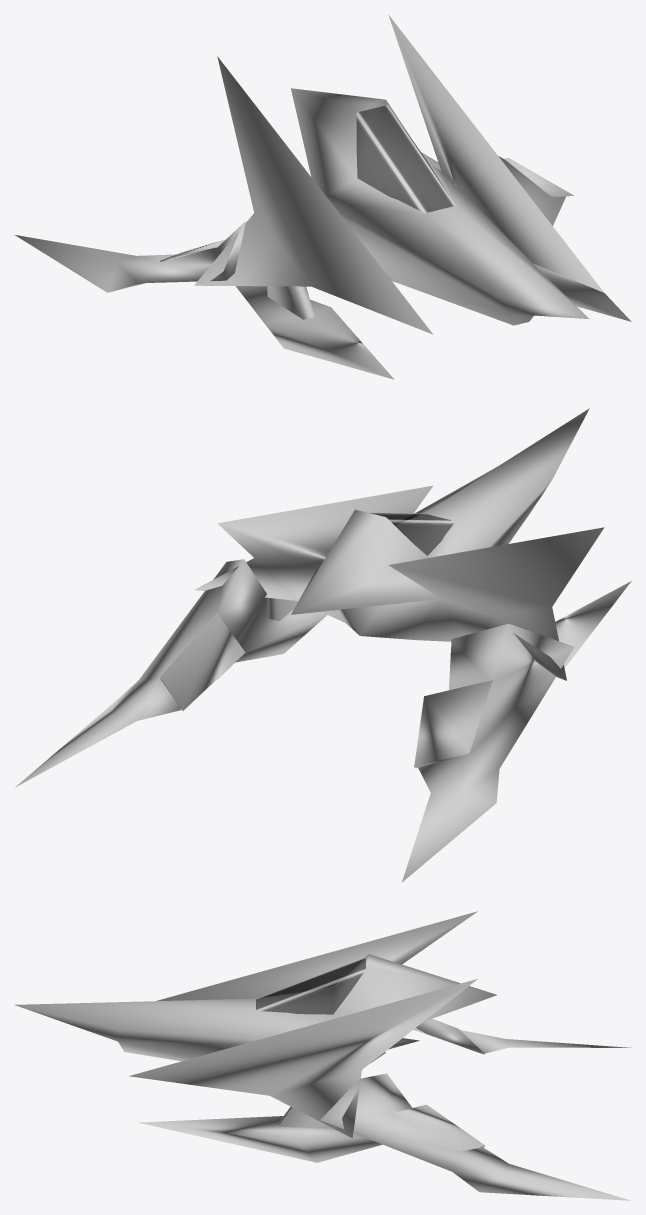
Rendered from arwingNew23.obj.
The picture shows the model from 3 angles, top to bottom: view 1: azimuth 30°, elevation 25°; view 2: azimuth 150°, elevation 25°; view 3: azimuth 270°, elevation 25°; orthographic projection. The views are drawn at different scales.
Parts seen in each view (by area): view 1: Arwing.002; view 2: Arwing.002; view 3: Arwing.002.
Boxes of the visible parts, x1,y1,x2,y2 form: Arwing.002: (14,14,631,379); Arwing.002: (15,408,631,882); Arwing.002: (14,911,631,1200).
Bounding box in the file's own units: 3.94 × 2.15 × 6.7.
